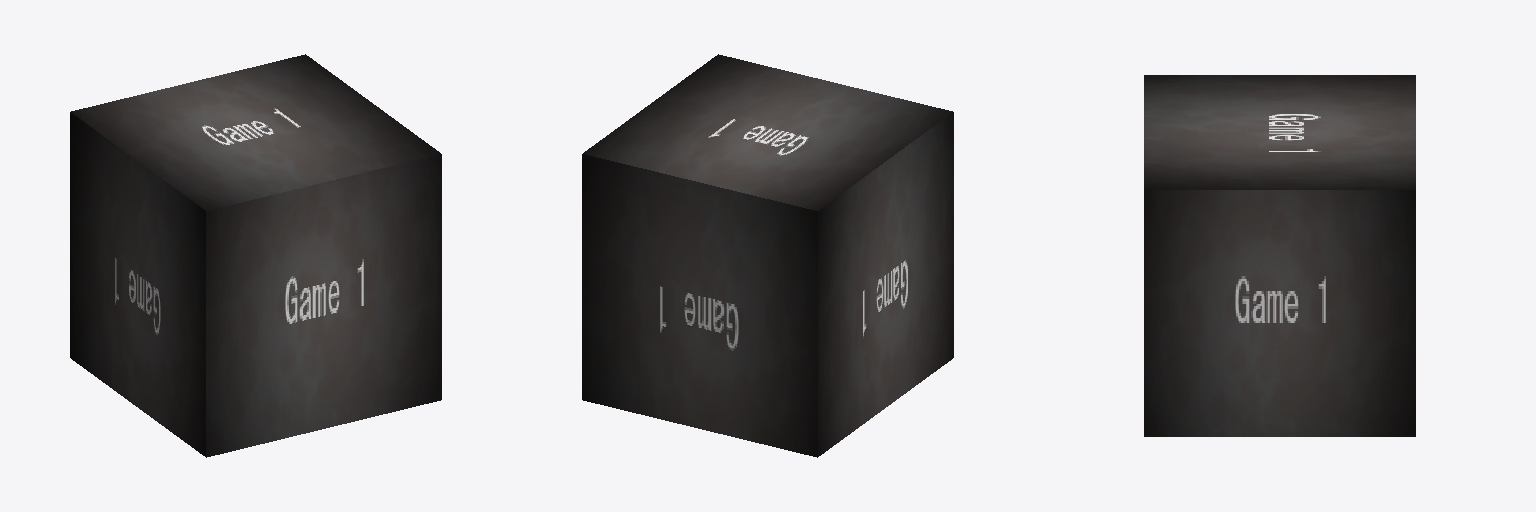
The picture shows the model from 3 angles: view 1: azimuth 30°, elevation 25°; view 2: azimuth 150°, elevation 25°; view 3: azimuth 270°, elevation 25°; orthographic projection.
Parts seen in each view (by area): view 1: Cube; view 2: Cube; view 3: Cube.
Part boxes in pixels (left/top/right/bottom): Cube: left=70, top=54, right=441, bottom=457; Cube: left=582, top=54, right=953, bottom=457; Cube: left=1144, top=75, right=1415, bottom=436.
Size of the model in its own units: 2 by 2 by 2.
1 materials, 1 textured.